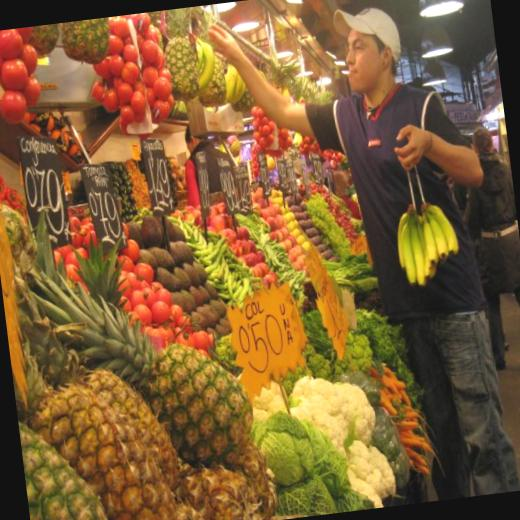Banana: (396, 188, 465, 292), (214, 59, 247, 106), (196, 38, 218, 90), (192, 41, 204, 67)
Mango: (13, 239, 258, 488), (10, 247, 170, 520), (45, 298, 180, 488), (17, 404, 119, 520), (163, 440, 282, 520), (156, 7, 201, 104), (189, 5, 230, 108), (61, 17, 113, 67), (28, 24, 58, 58), (226, 83, 256, 114)
